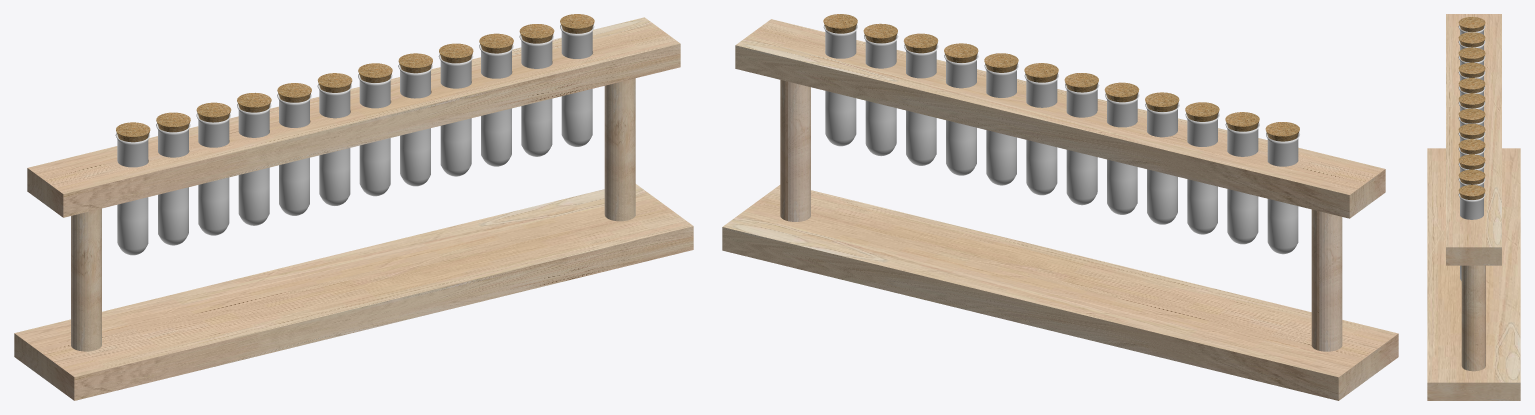
The model's file is reageerbuizen.gltf.
The picture shows the model from 3 angles, left to right: view 1: azimuth 30°, elevation 25°; view 2: azimuth 150°, elevation 25°; view 3: azimuth 270°, elevation 25°; orthographic projection. The views are drawn at different scales.
Visible parts, largest first — view 1: Cylinder.032; view 2: Cylinder.032; view 3: Cylinder.032.
Boxes of the visible parts, x1=… form: Cylinder.032: x1=14, y1=14, x2=693, y2=400; Cylinder.032: x1=722, y1=14, x2=1398, y2=400; Cylinder.032: x1=1427, y1=14, x2=1520, y2=400.
Size of the model in its own units: 46 by 16.24 by 7.74.
Materials: 37 (13 with a texture image).
